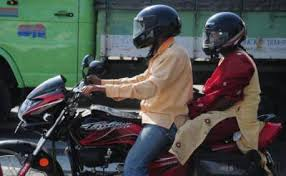helmet: (125, 4, 187, 53), (197, 9, 253, 58)
